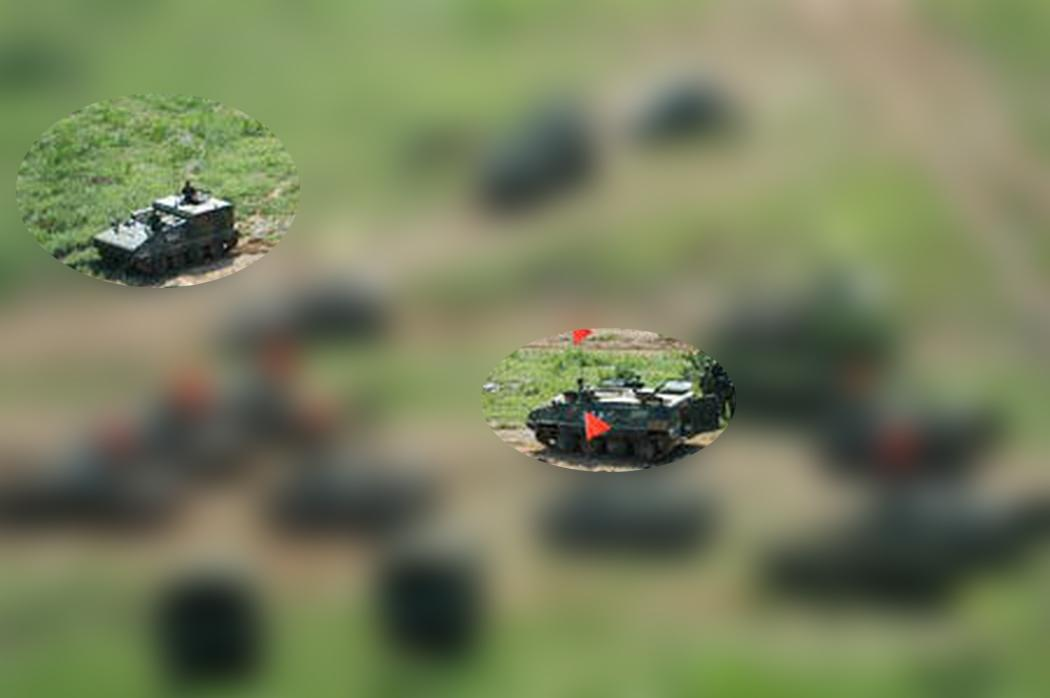armored_car: (521, 374, 723, 467), (88, 183, 246, 285)
